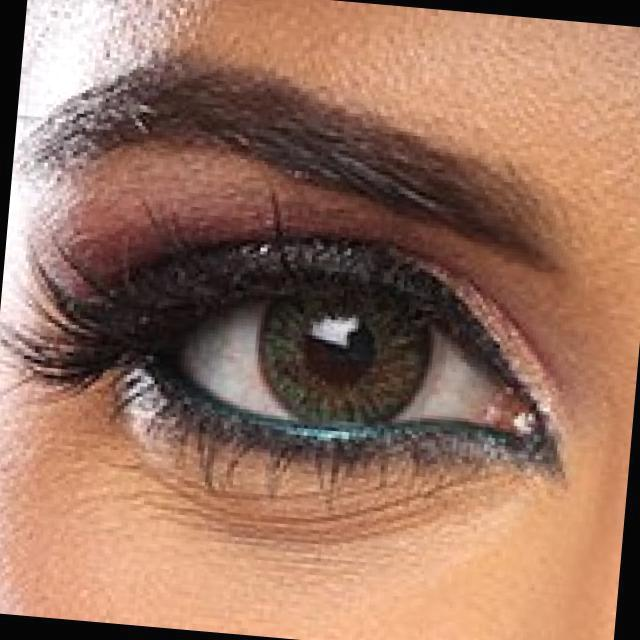Normal: (3, 104, 567, 529)
